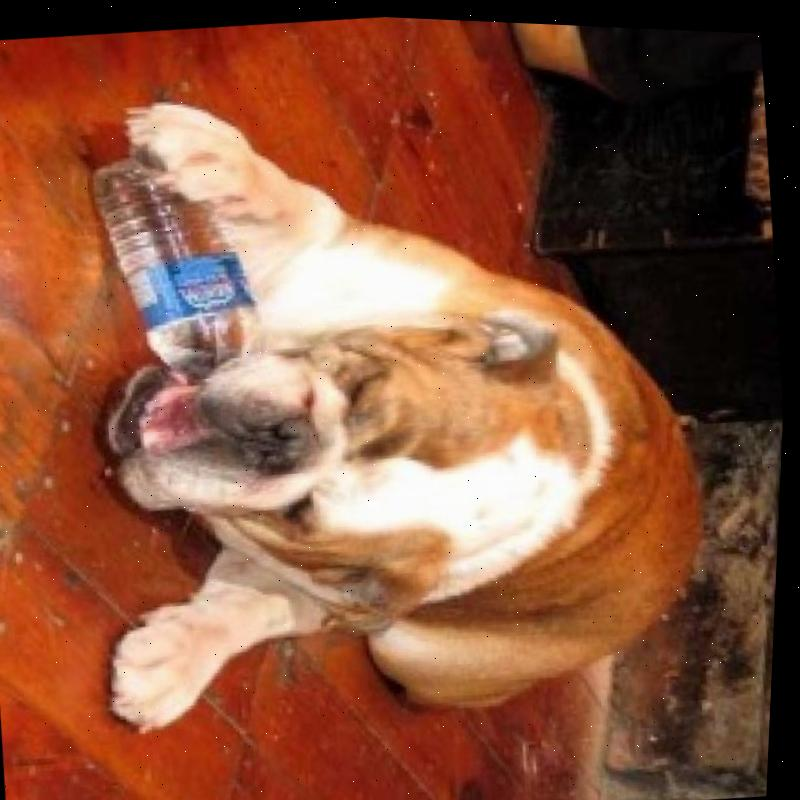botella: (80, 140, 277, 394)
